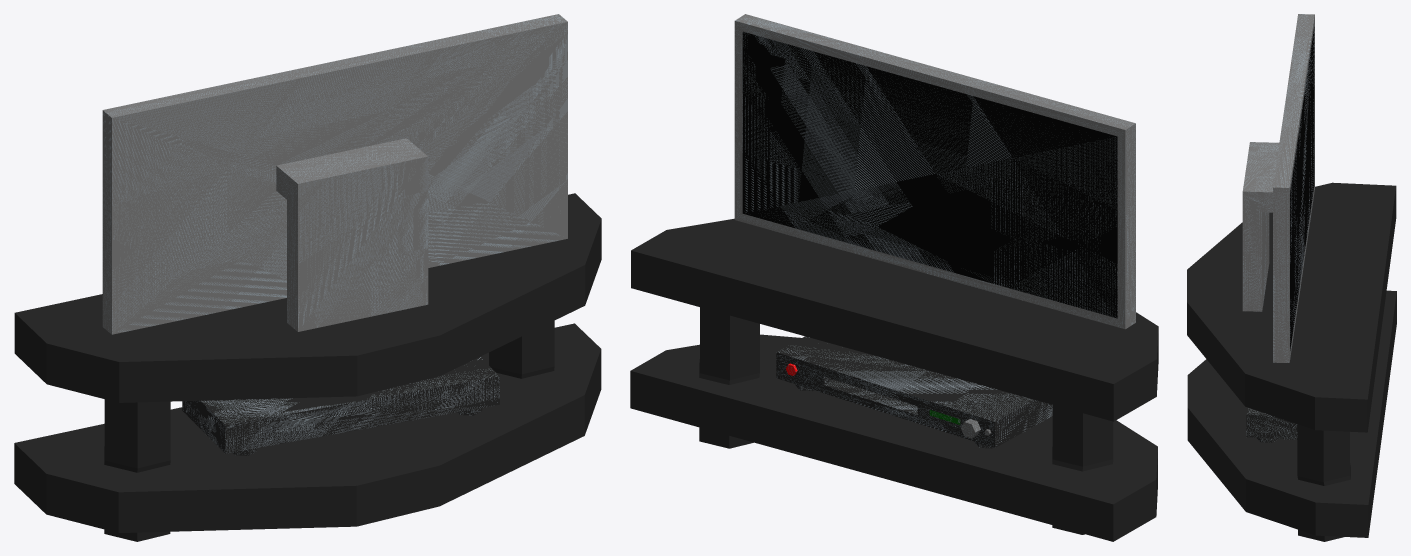
File: television.dae
3 renders of one model, left to right at view 1: azimuth 30°, elevation 25°; view 2: azimuth 150°, elevation 25°; view 3: azimuth 270°, elevation 25°, orthographic. The views are drawn at different scales.
Parts seen in each view (by area): view 1: TV_and_stand (×2), tv_stand (×4), dvdplayer; view 2: tv_stand (×4), TV_and_stand (×2), dvdplayer (×2); view 3: tv_stand (×4), TV_and_stand (×3), dvdplayer.
Boxes of the visible parts, x1=… form: TV_and_stand (×2): x1=102, y1=14, x2=567, y2=334; tv_stand (×4): x1=14, y1=193, x2=601, y2=541; dvdplayer: x1=182, y1=356, x2=499, y2=453; tv_stand (×4): x1=630, y1=218, x2=1158, y2=541; TV_and_stand (×2): x1=734, y1=14, x2=1135, y2=329; dvdplayer (×2): x1=776, y1=336, x2=1052, y2=447; tv_stand (×4): x1=1187, y1=182, x2=1396, y2=541; TV_and_stand (×3): x1=1242, y1=14, x2=1314, y2=362; dvdplayer: x1=1246, y1=408, x2=1297, y2=439.
Size of the model in its own units: 72.14 by 29.51 by 53.88.
